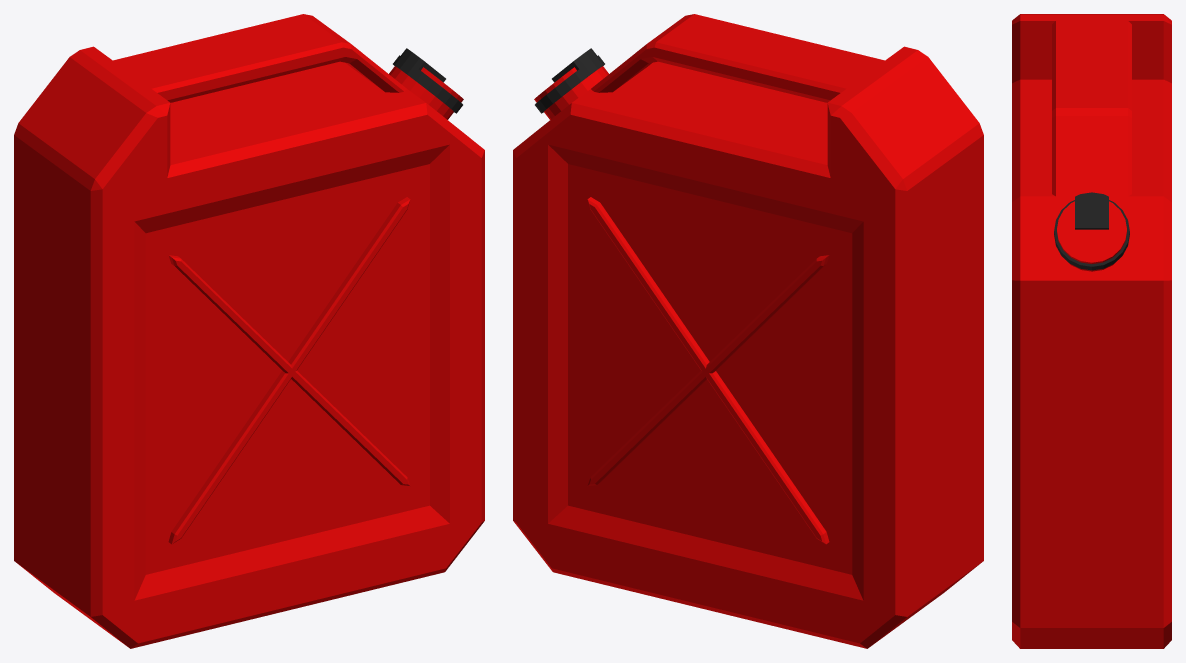
Rendered from Jerry_Can.fbx.
3 views of the same model, side by side, from view 1: azimuth 30°, elevation 25°; view 2: azimuth 150°, elevation 25°; view 3: azimuth 270°, elevation 25° (orthographic). The views are drawn at different scales.
Visible parts, largest first — view 1: Jerry_can; view 2: Jerry_can; view 3: Jerry_can.
Part boxes in pixels (<box>): Jerry_can: <box>14,14,484,648</box>; Jerry_can: <box>513,14,983,648</box>; Jerry_can: <box>1012,14,1171,648</box>.
Size of the model in its own units: 1.03 by 1.3 by 0.375.
